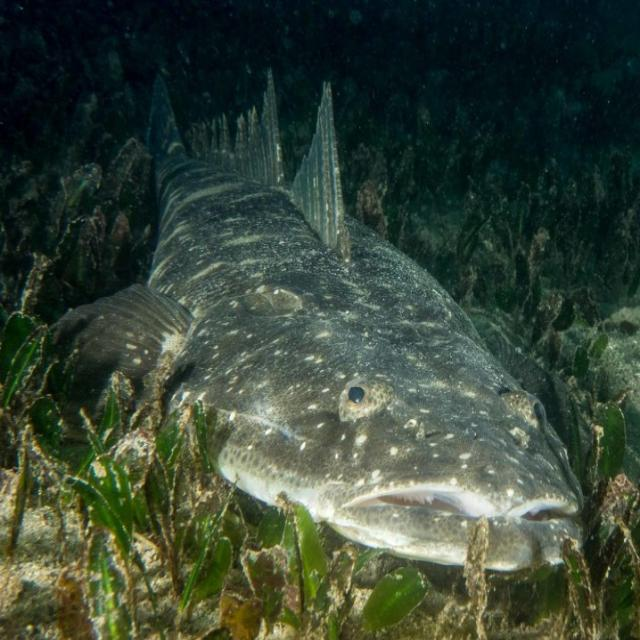Flathead: (35, 38, 591, 592)
